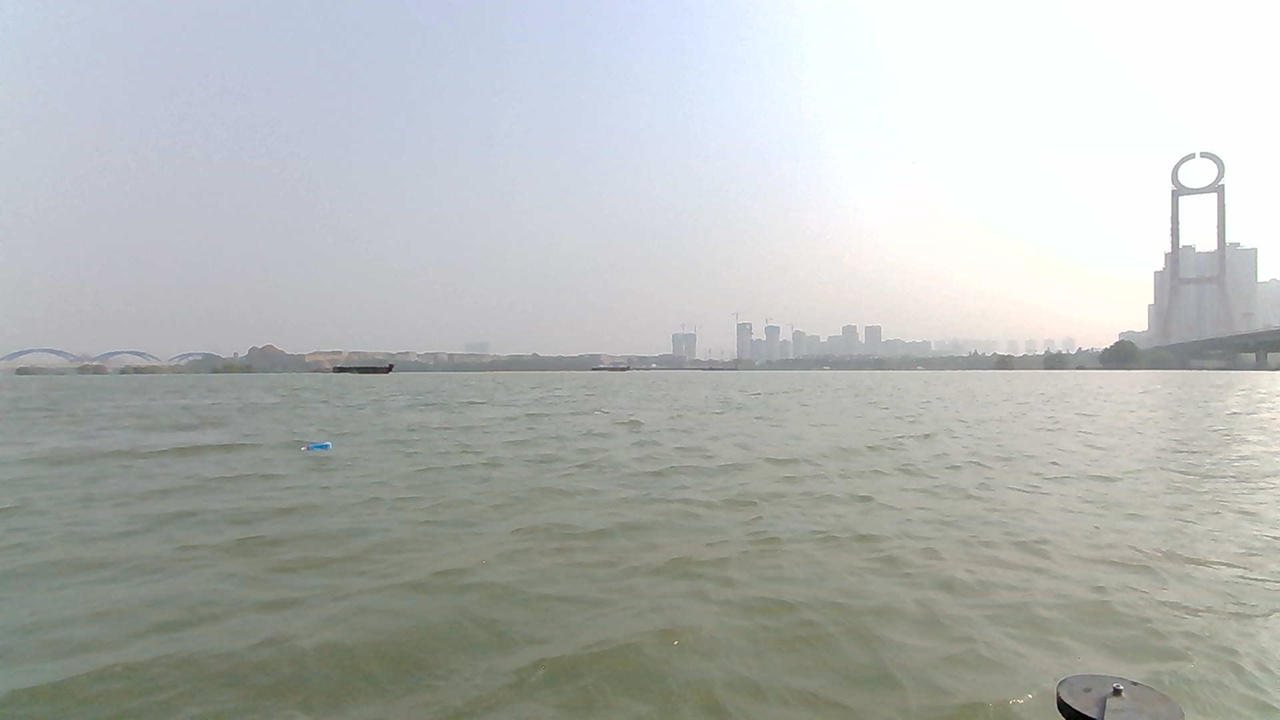bottle: (299, 438, 340, 458)
